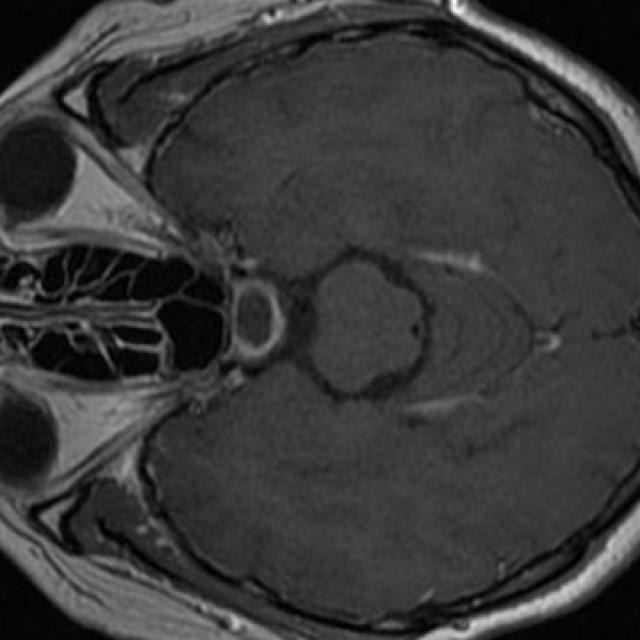pituitary: (230, 278, 285, 360)
